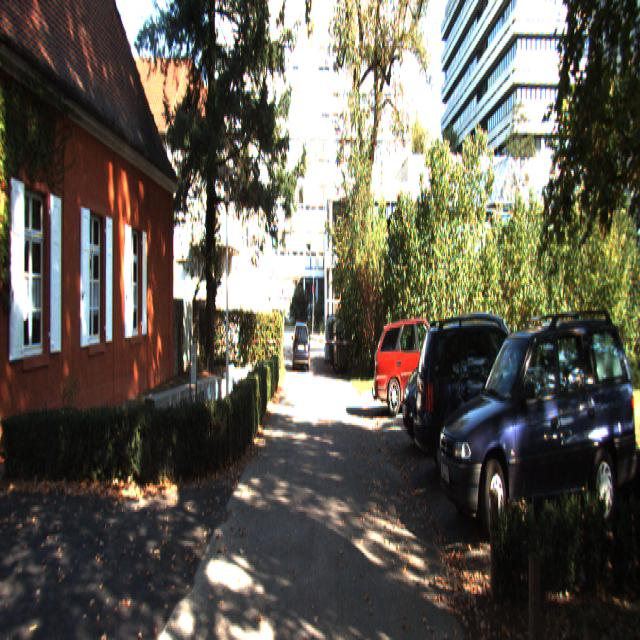Car: (430, 306, 640, 546), (412, 310, 572, 484), (401, 309, 520, 461), (374, 313, 469, 417), (293, 321, 310, 374)
